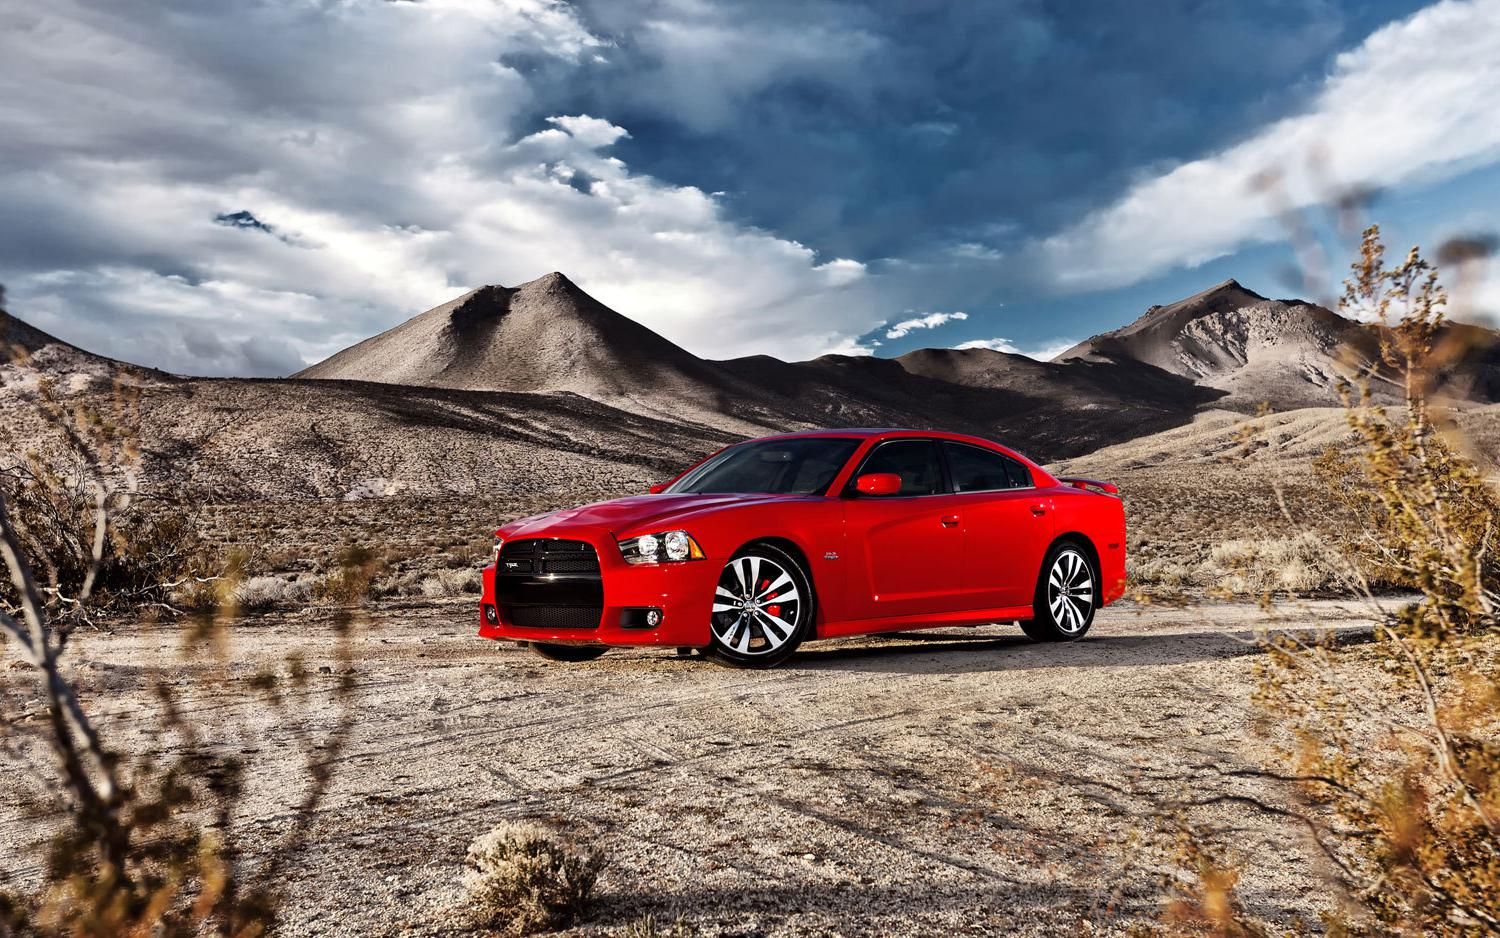Car: (454, 391, 1156, 711)
